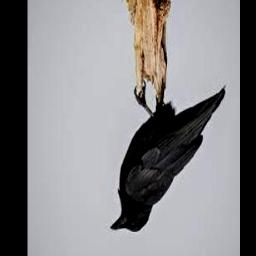Crow: (108, 85, 224, 233)
